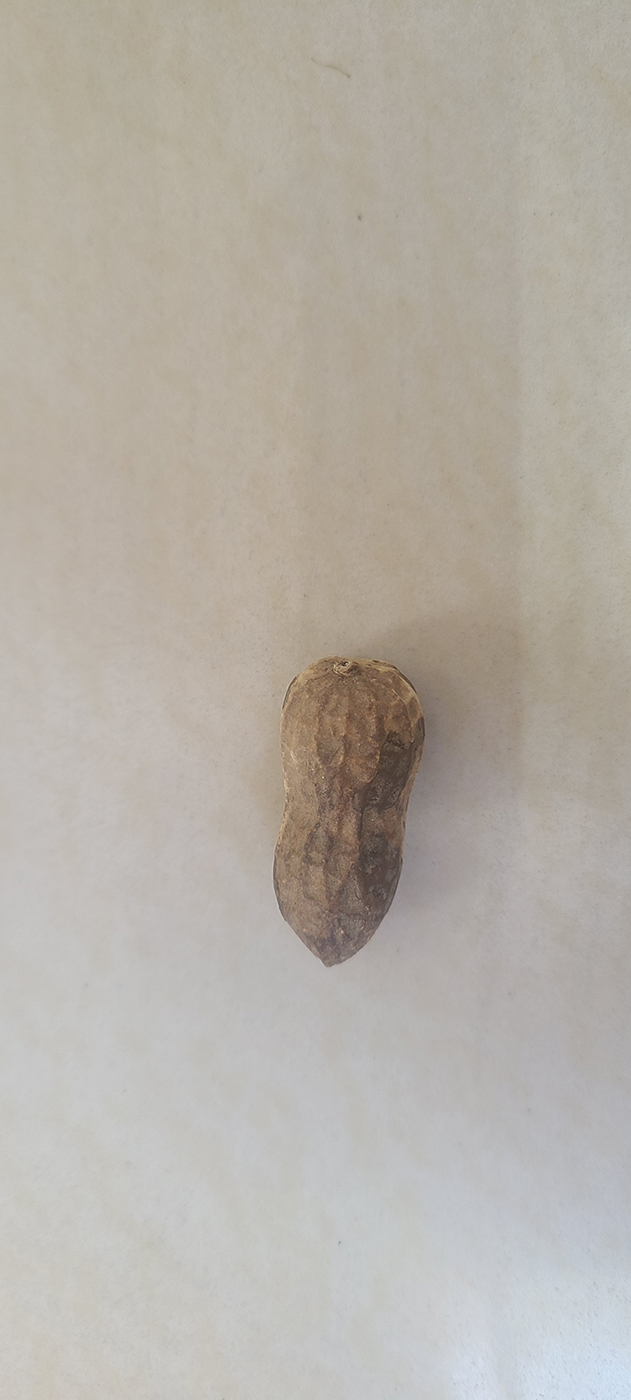l: (272, 654, 425, 964)
